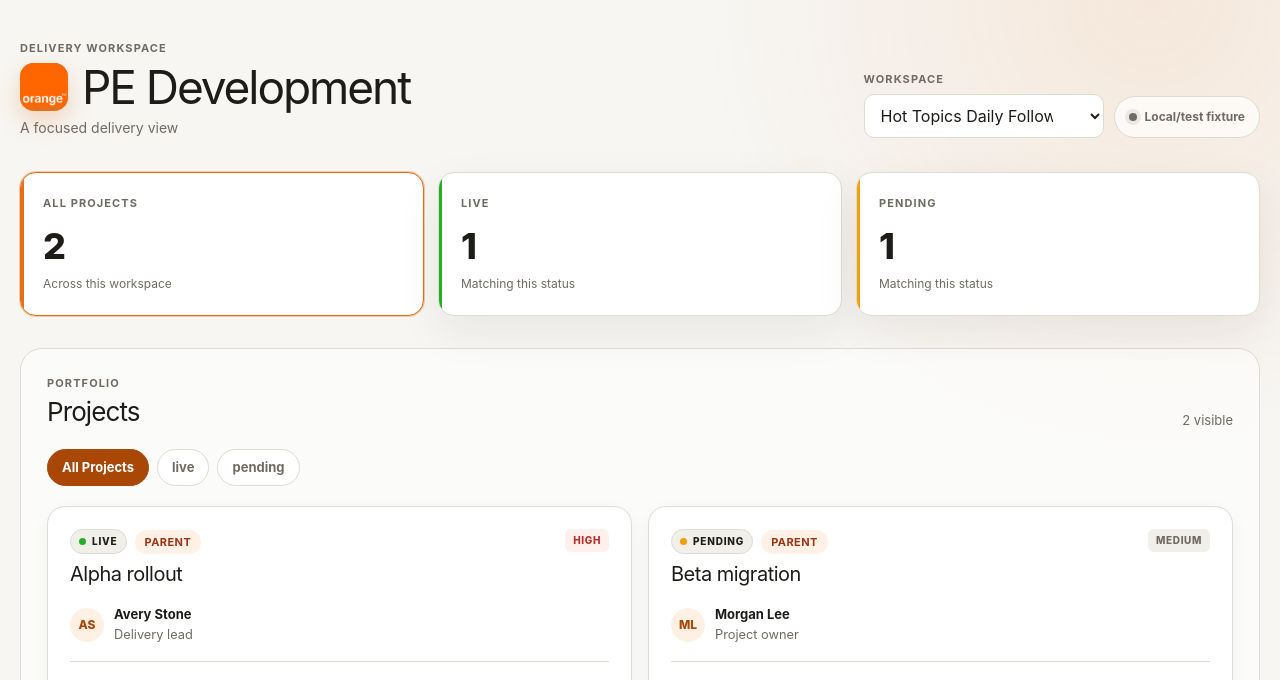
Test case: DashboardShell › shows clickable status metrics for pe-development and hides the Jira banner
Expected: the button "All Projects 2 Across this workspace" is shown, 20,172 -> 424,316
What coordinates should you click on to do the following:
click the button "live 1 Matching this status"
I would click on:
 (518, 284)
Its box is 438,172 -> 842,316.
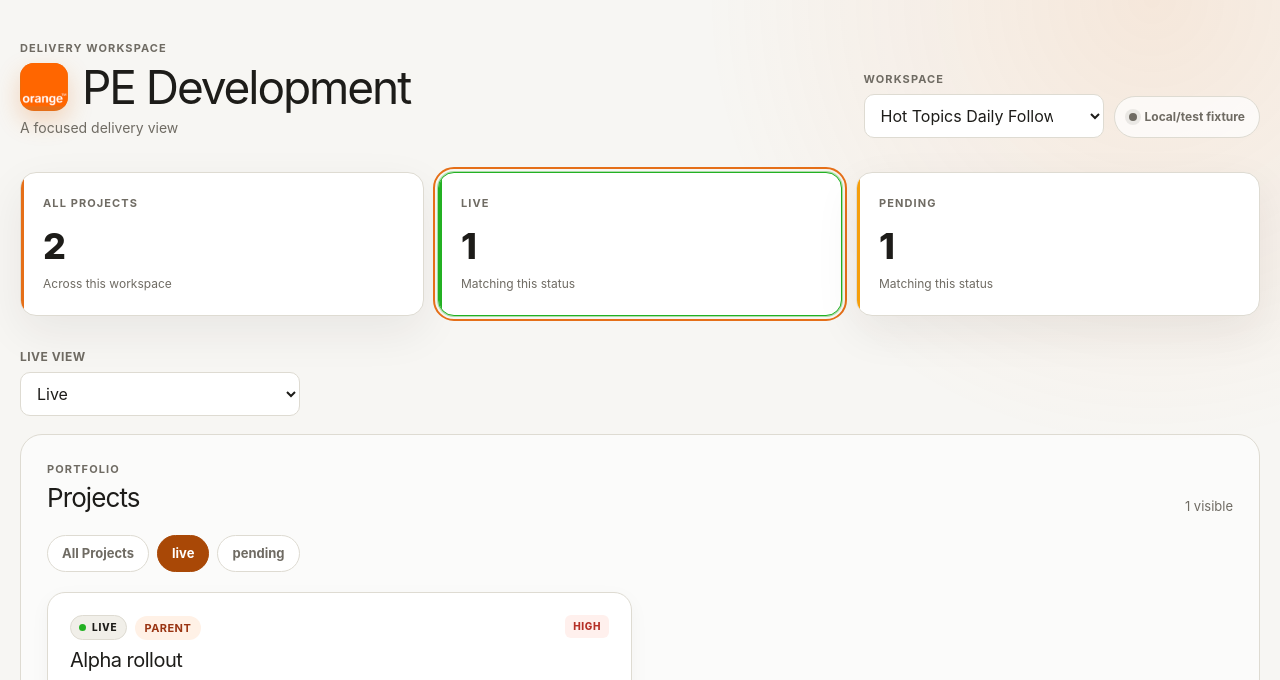
Expected: the heading "Alpha rollout" is shown, 70,648 -> 201,673
Expected: the heading "Beta migration" is gone
